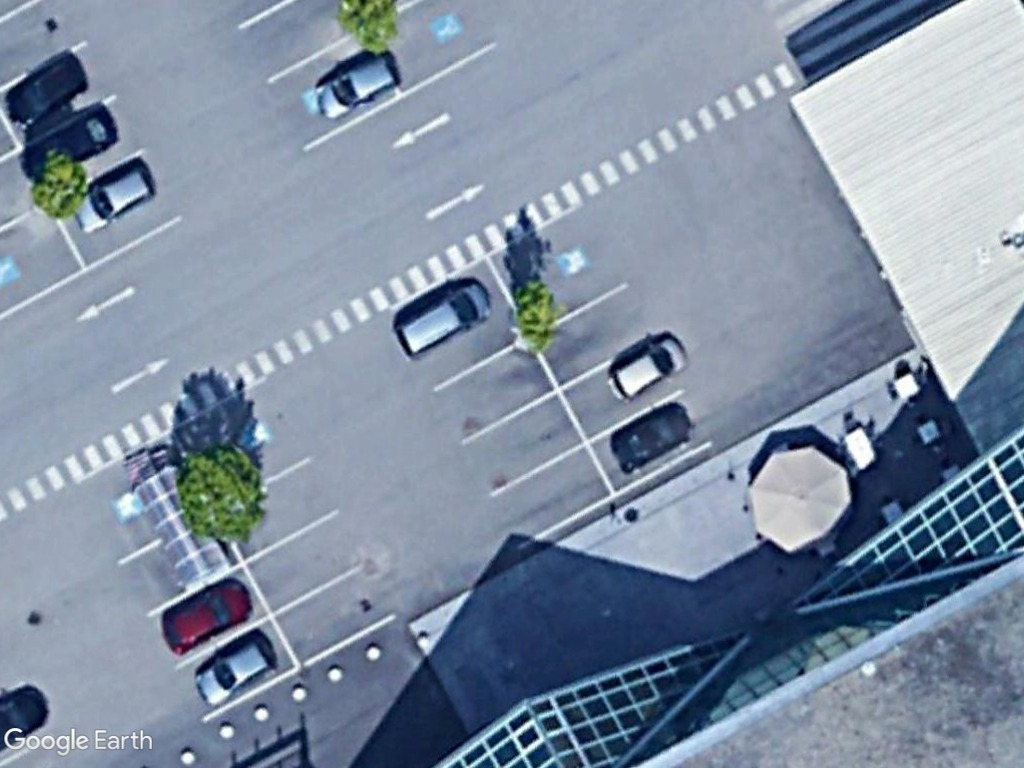car: (392, 277, 494, 364), (155, 570, 256, 654), (192, 630, 279, 708), (309, 48, 399, 123), (604, 333, 693, 403), (72, 160, 155, 234)
